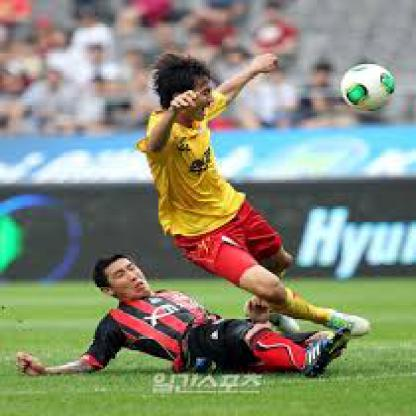Fall_Down: (138, 53, 374, 339)
